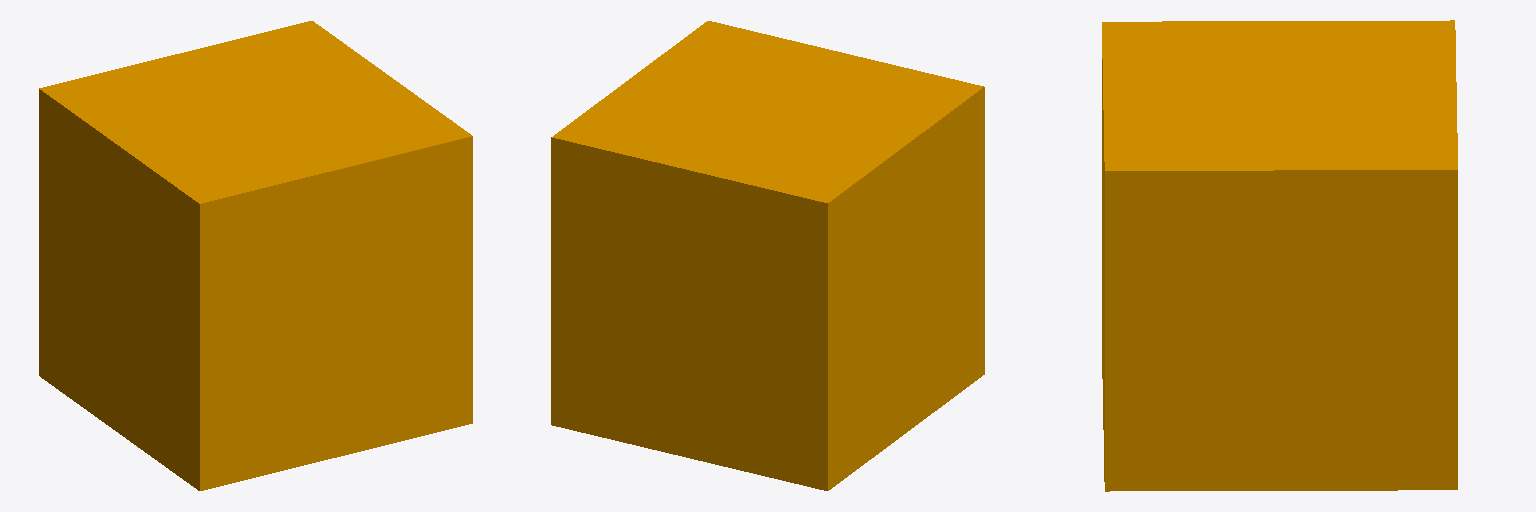
The robot description file, URDF, robot "IRB140_ATI_GELSIGHT":
<?xml version="1.0" ?>
<robot
  name="IRB140_ATI_GELSIGHT">
  <link
    name="base_link">
    <inertial>
      <origin
        xyz="-0.0820393251688425 -0.0599247343482246 0.000402028640224033"
        rpy="-1.57079 0 0" />
      <mass
        value="12.409016159487" />
      <inertia
        ixx="0.104502176006253"
        ixy="0.00734284655670482"
        ixz="1.00520827530156E-05"
        iyy="0.246486764065977"
        iyz="0.000843006810157312"
        izz="0.16727784258504" />
    </inertial>
    <visual>
      <origin
        xyz="0 0 0"
        rpy="-1.57079 0 0" />
      <geometry>
        <mesh
          filename="irb140/base_link_chull.stl" />
      </geometry>
      <material
        name="">
        <color
          rgba="0.890196078431373 0.411764705882353 0.125490196078431 1" />
      </material>
    </visual>
    <collision>
      <origin
        xyz="0 0 0"
        rpy="-1.57079 0 0" />
      <geometry>
        <mesh
          filename="irb140/base_link_chull.stl" />
      </geometry>
    </collision>
  </link>
  <collision_filter_group name="base">
	  <member link="base_link"/>
  </collision_filter_group>
  <collision_filter_group name="ignore_base">
	  <member link="link_1"/>
  </collision_filter_group>
  <link
    name="link_1">
    <inertial>
      <origin
        xyz="0.0281052735195531 -0.263404021764231 0.0438145912936454"
        rpy="0 0 0" />
      <mass
        value="16.287755696602" />
      <inertia
        ixx="0.239763088891016"
        ixy="-0.0247090810274521"
        ixz="0.000698689923332581"
        iyy="0.215279593840589"
        iyz="-0.0324602456686847"
        izz="0.21738294278782" />
    </inertial>
    <visual>
      <origin
        xyz="0 0.1095 0"
        rpy="0 0 0" />
      <geometry>
        <mesh
          filename="irb140/link1_chull.stl" />
      </geometry>
      <material
        name="">
        <color
          rgba="0.890196078431373 0.411764705882353 0.125490196078431 1" />
      </material>
    </visual>
    <collision>
      <origin
        xyz="0 0.1095 0"
        rpy="0 0 0" />
      <geometry>
        <mesh
          filename="irb140/link1_chull.stl" />
      </geometry>
    </collision>
  </link>
  <link
    name="link_2">
    <inertial>
      <origin
        xyz="0.0602722328661623 -0.550288012476887 -0.0924337165442594"
        rpy="0 0 0" />
      <mass
        value="7.58037424484438" />
      <inertia
        ixx="0.155736578403723"
        ixy="-0.0018292494088038"
        ixz="-0.000516100043145016"
        iyy="0.0449374006069967"
        iyz="0.0179772597993246"
        izz="0.131499062854069" />
    </inertial>
    <visual>
      <origin
        xyz="-0.07 0.352 0"
        rpy="0 0 0" />
      <geometry>
        <mesh
          filename="irb140/link2_chull.stl" />
      </geometry>
      <material
        name="">
        <color
          rgba="0.890196078431373 0.411764705882353 0.125490196078431 1" />
      </material>
    </visual>
    <collision>
      <origin
        xyz="-0.07 0.352 0"
        rpy="0 0 0" />
      <geometry>
        <mesh
          filename="irb140/link2_chull.stl" />
      </geometry>
    </collision>
  </link>
  <link
    name="link_3">
    <inertial>
      <origin
        xyz="0.0895840773879386 -0.706321963929838 0.00750781548417993"
        rpy="0 0 0" />
      <mass
        value="8.03072730997701" />
      <inertia
        ixx="0.0322819185861096"
        ixy="0.00189304098071818"
        ixz="-0.00301812650515099"
        iyy="0.0862439596837411"
        iyz="0.000363121583074651"
        izz="0.0941344479457789" />
    </inertial>
    <visual>
      <origin
        xyz="-0.07 0.712 0"
        rpy="0 0 0" />
      <geometry>
        <mesh
          filename="irb140/link3_chull.stl" />
      </geometry>
      <material
        name="">
        <color
          rgba="0.890196078431373 0.411764705882353 0.125490196078431 1" />
      </material>
    </visual>
    <collision>
      <origin
        xyz="-0.07  0.712 0"
        rpy="0 0 0" />
      <geometry>
        <mesh
          filename="irb140/link3_chull.stl" />
      </geometry>
    </collision>
  </link>
  <link
    name="link_4">
    <inertial>
      <origin
        xyz="0.381567778909365 -0.710566670346653 -0.0012125731023236"
        rpy="0 0 0" />
      <mass
        value="1.7702548022269" />
      <inertia
        ixx="0.00345886724545012"
        ixy="-5.89845314013543E-05"
        ixz="-0.000204665310780048"
        iyy="0.00814796317500158"
        iyz="3.05102860299544E-06"
        izz="0.00727417938725734" />
    </inertial>
    <visual>
      <origin
        xyz="-0.2885 0.712 0"
        rpy="0 0 0" />
      <geometry>
        <mesh
          filename="irb140/link4_chull.stl" />
      </geometry>
      <material
        name="">
        <color
          rgba="0.890196078431373 0.411764705882353 0.125490196078431 1" />
      </material>
    </visual>
    <collision>
      <origin
        xyz="-0.2885 0.712 0"
        rpy="0 0 0" />
      <geometry>
        <mesh
          filename="irb140/link4_chull.stl" />
      </geometry>
    </collision>
  </link>
  <link
    name="link_5">
    <inertial>
      <origin
        xyz="0.4486171436144 -0.711838316531129 0.000617034654940496"
        rpy="0 0 0" />
      <mass
        value="0.145550520315438" />
      <inertia
        ixx="7.1482542749252E-05"
        ixy="4.08865519403599E-07"
        ixz="1.24002244883737E-07"
        iyy="6.88353185385481E-05"
        iyz="-1.00702333671187E-08"
        izz="0.000112132445217078" />
    </inertial>
    <visual>
      <origin
        xyz="-0.450 0.712 0"
        rpy="0 0 0" />
      <geometry>
        <mesh
          filename="irb140/link5_chull.stl" />
      </geometry>
      <material
        name="">
        <color
          rgba="0.890196078431373 0.411764705882353 0.125490196078431 1" />
      </material>
    </visual>
    <collision>
      <origin
        xyz="-0.450 0.712 0"
        rpy="0 0 0" />
      <geometry>
        <mesh
          filename="irb140/link5_chull.stl" />
      </geometry>
    </collision>
  </link>
    <link
    name="link_6">
    <inertial>
      <origin
        xyz="0.502059432845099 -0.711774967143511 2.38785136319277E-10"
        rpy="0 0 0" />
      <mass
        value="0.0258654328719498" />
      <inertia
        ixx="5.9822143548355E-06"
        ixy="4.58244484401765E-08"
        ixz="-3.33091906738059E-13"
        iyy="6.2921914507958E-06"
        iyz="6.75626369217644E-13"
        izz="6.17479327327778E-06" />
    </inertial>
    <visual>
      <origin
        xyz="-0.515 0.712 0"
        rpy="0 0 0" />
      <geometry>
        <mesh
          filename="irb140/link6_chull.stl" />
      </geometry>
      <material
        name="">
        <color
          rgba="0.796078431372549 0.823529411764706 0.937254901960784 1" />
      </material>
    </visual>
    <collision>
      <origin
        xyz="-0.515 0.712 0"
        rpy="0 0 0" />
      <geometry>
        <mesh
          filename="irb140/link6_chull.stl" />
      </geometry>
    </collision>
  </link>
  <joint name="joint1" type="revolute">
    <parent link="base_link"/>
    <child link="link_1"/>
    <limit effort="300" lower="-3.14159265359" upper="3.14159265359" velocity="4.36"/>
    <axis xyz="0 -1 0"/>
    <origin rpy="-1.57079 0 0" xyz="0 0 0.1095"/>
  </joint>
  <joint name="joint2" type="revolute">
    <parent link="link_1"/>
    <child link="link_2"/>
    <limit effort="300" lower="-1.57079633" upper="1.91986218" velocity="4.36"/>
    <axis xyz="0 0 1"/>
    <origin rpy="0 0 0" xyz="0.07 -0.2425 0"/>
  </joint>
  <joint name="joint3" type="revolute">
    <parent link="link_2"/>
    <child link="link_3"/>
    <limit effort="300" lower="-4.01425728" upper="0.87266463" velocity="4.36"/>
    <axis xyz="0 0 1"/>
    <origin rpy="0 0 0" xyz="0 -0.360 0"/>
  </joint>
  <joint name="joint4" type="revolute">
    <parent link="link_3"/>
    <child link="link_4"/>
    <limit effort="300" lower="-3.49065850" upper="3.49065850" velocity="5.58"/>
    <axis xyz="1 0 0"/>
    <origin rpy="0 0 0" xyz="0.2185 0 0"/>
  </joint>
  <joint name="joint5" type="revolute">
    <parent link="link_4"/>
    <child link="link_5"/>
    <limit effort="300" lower="-2.09439510" upper="2.09439510" velocity="5.58"/>
    <axis xyz="0 0 1"/>
    <origin rpy="0 0 0" xyz="0.1615 0 0"/>
  </joint>
  <joint name="joint6" type="revolute">
    <parent link="link_5"/>
    <child link="link_6"/>
    <limit effort="300" lower="-6.98131701" upper="6.98131701" velocity="7.33"/>
    <axis xyz="1 0 0"/>
    <origin rpy="0 0 0" xyz="0.065 0 0"/>
  </joint>

 <link name="ATI_sensor">
    <inertial>
      <origin rpy="0 0 0" xyz="-0.0064062 0.01873 0.011887"/>
      <mass value="0.68252"/>
      <inertia ixx="0.000615295062479599" ixy="-0.000155498855912512" ixz="4.23692762827157E-06" iyy="8.42227283334224E-06" iyz="-0.000848389613222753" izz="-8.42227283334216E-06"/>
    </inertial>
    <visual>
      <origin rpy="1.5707963267949 0 0" xyz="0 0 0"/>
      <geometry>
        <mesh filename="irb140/ATI_sensor_chull.obj"/>
      </geometry>
      <material name="">
        <color rgba="0.75294 0.75294 0.75294 1"/>
      </material>
    </visual>
    <collision>
      <origin rpy="1.5707963267949 0 0" xyz="0 0 0"/>
      <geometry>
        <mesh filename="irb140/ATI_sensor_chull.obj"/>
      </geometry>
    </collision>
  </link>
  <joint name="ati_joint" type="fixed">
    <origin rpy="0.0 -2.5 -1.57079" xyz="0.00953 0 0"/>
    <parent link="link_6"/>
    <child link="ATI_sensor"/>
  </joint>

  <link name="gelsight_box">
    <visual>
      <geometry>
        <box size="0.033 0.033 0.033"/>
      </geometry>
      <origin xyz="0 0 -0.0166"/>
    </visual>
    <!--
    <collision group="gelsight">
      <geometry>
        <box size="0.033 0.033 0.033"/>
      </geometry>
      <origin xyz="0 0 -0.0166"/>
    </collision>
  -->
    <inertial>
      <mass value="0.1"/>
      <inertia ixx="0.01" ixy="0.0" ixz="0.0" iyy="0.01" iyz="0.0" izz="0.01"/>
      <origin xyz="0 0 -0.166"/>
    </inertial>
  </link>
  <joint name="gelsight_box_joint" type="fixed">
    <origin rpy="3.1415 -1.579 0.0" xyz="0.098 0 0"/>
    <parent link="link_6"/>
    <child link="gelsight_box"/>
  </joint>

  <transmission name="joint1_trans" type="SimpleTransmission">
    <joint name="joint1"/>
    <actuator name="joint1_motor"/>
    <mechanicalReduction>1</mechanicalReduction>
  </transmission>

  <transmission name="joint2_trans" type="SimpleTransmission">
    <joint name="joint2"/>
    <actuator name="joint2_motor"/>
    <mechanicalReduction>1</mechanicalReduction>
  </transmission>

  <transmission name="joint3_trans" type="SimpleTransmission">
    <joint name="joint3"/>
    <actuator name="joint3_motor"/>
    <mechanicalReduction>1</mechanicalReduction>
  </transmission>

  <transmission name="joint4_trans" type="SimpleTransmission">
    <joint name="joint4"/>
    <actuator name="joint4_motor"/>
    <mechanicalReduction>1</mechanicalReduction>
  </transmission>

  <transmission name="joint5_trans" type="SimpleTransmission">
    <joint name="joint5"/>
    <actuator name="joint5_motor"/>
    <mechanicalReduction>1</mechanicalReduction>
  </transmission>
  
  <transmission name="joint6_trans" type="SimpleTransmission">
    <joint name="joint6"/>
    <actuator name="joint6_motor"/>
    <mechanicalReduction>1</mechanicalReduction>
  </transmission>
  
</robot>

--- What the picture shows (computed from the rendered views, not written in the file) ---
The picture shows the robot from 3 angles, left to right: view 1: azimuth 30°, elevation 25°; view 2: azimuth 150°, elevation 25°; view 3: azimuth 270°, elevation 25°; orthographic projection.
Model IRB140_ATI_GELSIGHT with 9 links and 8 joints (6 revolute, 2 fixed), rooted at base_link, posed all joints at 0.
Visible links, largest first — view 1: gelsight_box; view 2: gelsight_box; view 3: gelsight_box.
Boxes of the visible links, x1=… form: gelsight_box: x1=39, y1=21, x2=472, y2=490; gelsight_box: x1=551, y1=21, x2=984, y2=490; gelsight_box: x1=1102, y1=20, x2=1457, y2=491.
Bounding box of the posed robot: 0.0333 × 0.0333 × 0.033 m (x, y, z).
Meshes: 8 distinct files referenced, 0 mesh visuals loaded (none loaded); not drawn: 8 (reference not matched to a file when rendering).